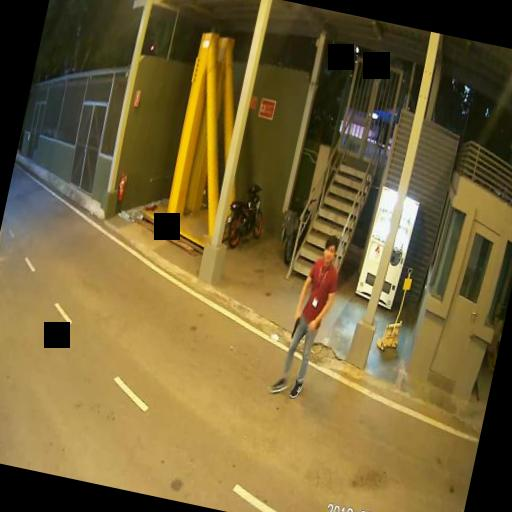Handgun: (288, 309, 300, 337)
